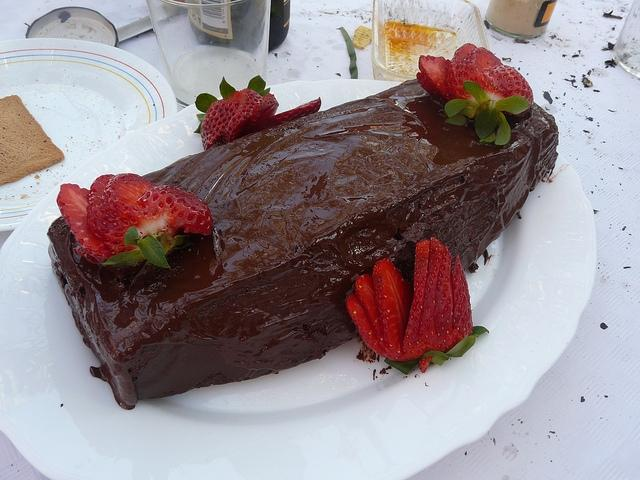strawberry: (56, 173, 214, 296), (347, 237, 471, 362), (214, 89, 264, 147), (456, 47, 502, 104), (201, 98, 241, 151), (418, 54, 454, 103)
